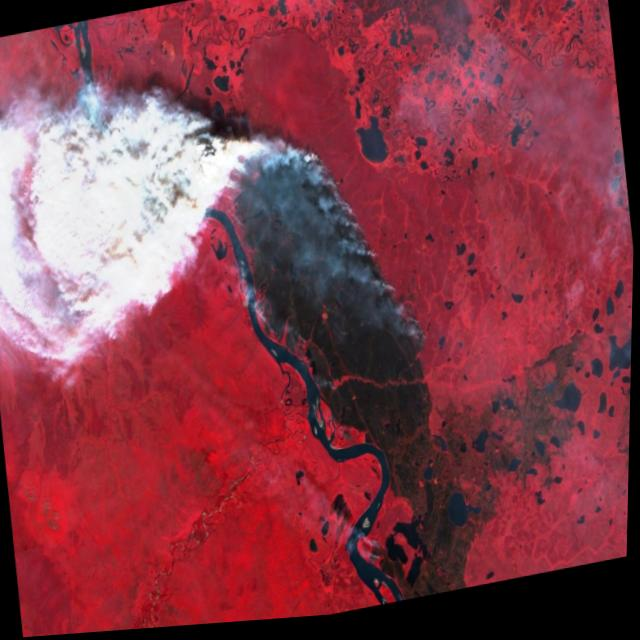fire: (189, 94, 443, 423)
